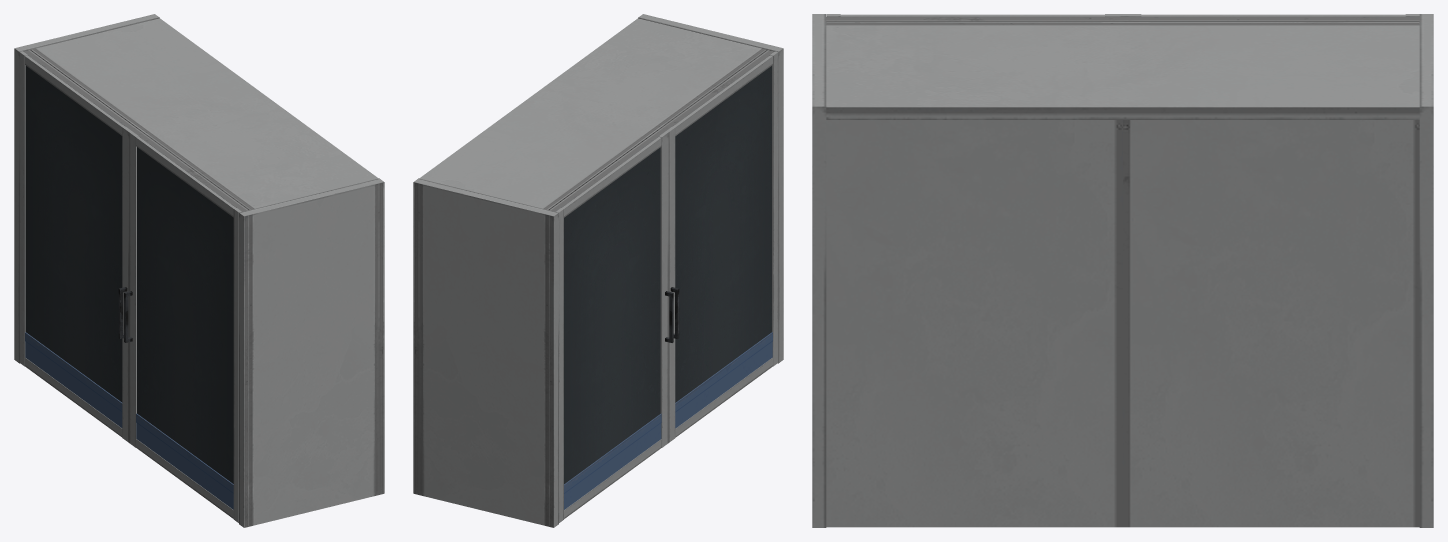
The model's file is HH_Wall_Cabinet_01.fbx.
3 views of the same model, side by side, from view 1: azimuth 30°, elevation 25°; view 2: azimuth 150°, elevation 25°; view 3: azimuth 270°, elevation 25° (orthographic). The views are drawn at different scales.
Parts seen in each view (by area): view 1: HH_Wall_Cabinet_01, HH_Cabinet_Door_02, HH_Cabinet_Door_01; view 2: HH_Wall_Cabinet_01, HH_Cabinet_Door_01, HH_Cabinet_Door_02; view 3: HH_Wall_Cabinet_01, HH_Cabinet_Door_02, HH_Cabinet_Door_01.
Boxes of the visible parts, box(x1,y1,x2,y2) form: HH_Wall_Cabinet_01: box(14, 14, 384, 527); HH_Cabinet_Door_02: box(124, 131, 241, 522); HH_Cabinet_Door_01: box(19, 51, 131, 442); HH_Wall_Cabinet_01: box(413, 14, 783, 527); HH_Cabinet_Door_01: box(556, 131, 673, 522); HH_Cabinet_Door_02: box(665, 51, 778, 442); HH_Wall_Cabinet_01: box(812, 14, 1433, 527); HH_Cabinet_Door_02: box(826, 14, 1123, 16); HH_Cabinet_Door_01: box(1123, 14, 1419, 16).
Size of the model in its own units: 56.97 by 115 by 154.
